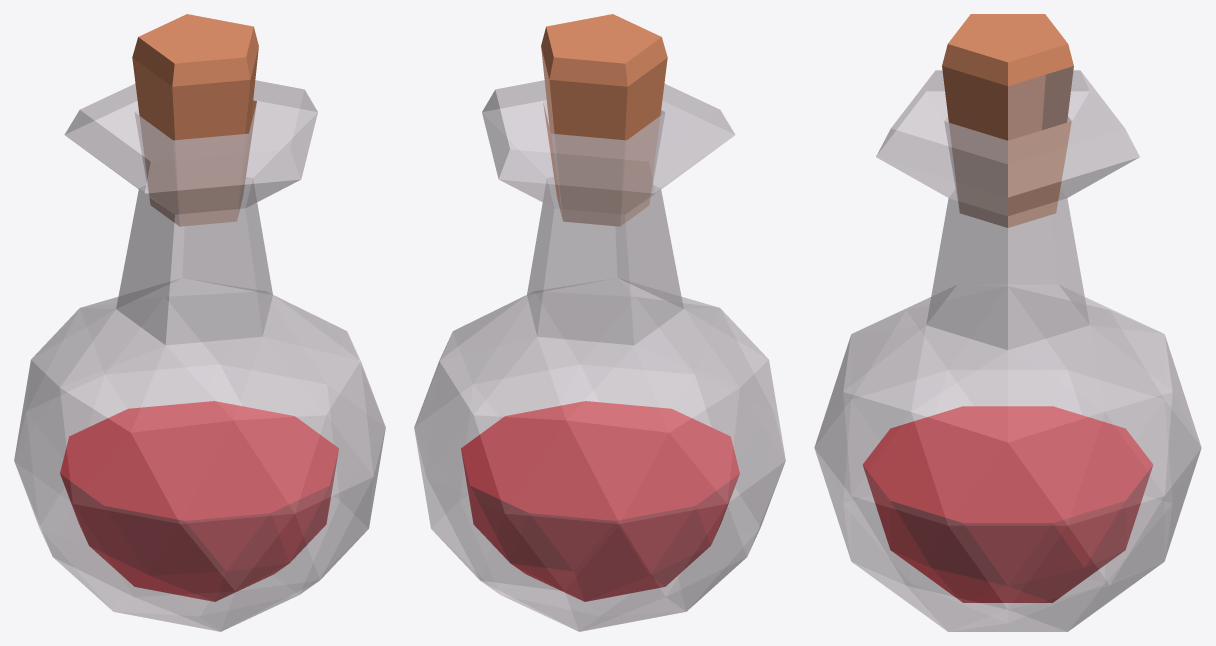
Rendered from weapon_basicPotion.fbx.
3 renders of one model, left to right at view 1: azimuth 30°, elevation 25°; view 2: azimuth 150°, elevation 25°; view 3: azimuth 270°, elevation 25°, orthographic.
Parts seen in each view (by area): view 1: potionBottol.001, potionLiqued; view 2: potionBottol.001, potionLiqued; view 3: potionBottol.001, potionLiqued.
Boxes of the visible parts, x1=… form: potionBottol.001: x1=14, y1=14, x2=385, y2=631; potionLiqued: x1=60, y1=401, x2=338, y2=601; potionBottol.001: x1=414, y1=14, x2=785, y2=631; potionLiqued: x1=461, y1=401, x2=739, y2=601; potionBottol.001: x1=814, y1=14, x2=1201, y2=631; potionLiqued: x1=863, y1=406, x2=1152, y2=602.
Bounding box in the file's own units: 35.4 × 62.31 × 37.22.
